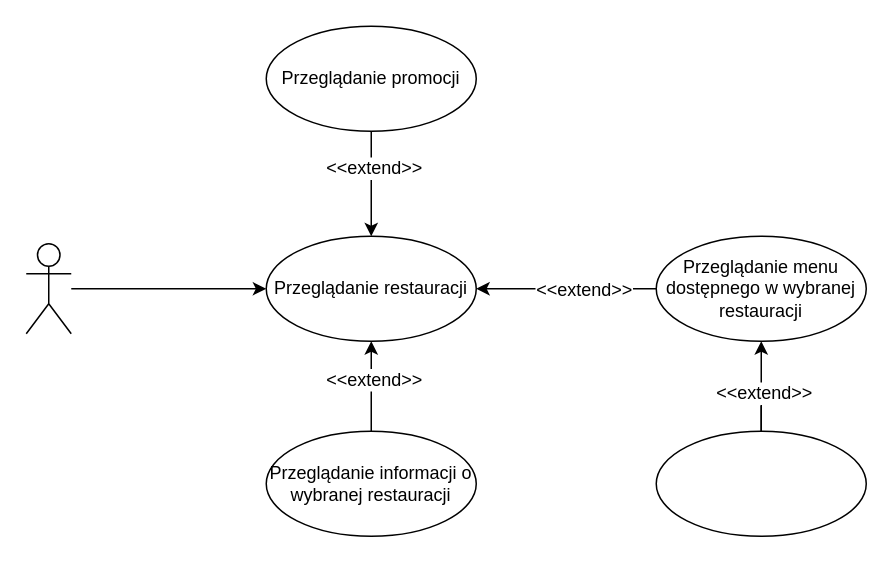
The diagram is 893 pixels wide and 563 high, and some of its shapes have lost their labels. The shapes that lost their labels are listed below. From the top down, each one's centre as x and y in pixels, then its label:
the point at 48,288: Klient
the point at 760,483: Przeglądanie dania dostępnego w wybranym menu
